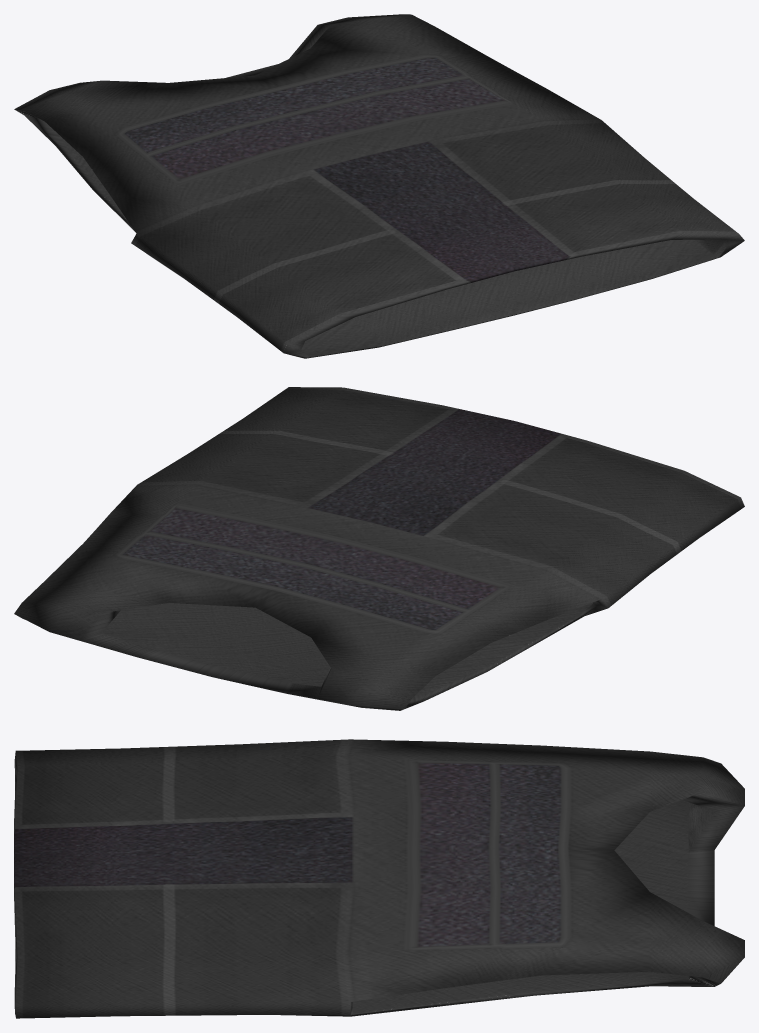
The model's file is MilitaryTacticalVest_WorldItem.fbx.
3 renders of one model, top to bottom at view 1: azimuth 30°, elevation 25°; view 2: azimuth 150°, elevation 25°; view 3: azimuth 270°, elevation 25°, orthographic. The views are drawn at different scales.
Parts seen in each view (by area): view 1: Circle_Circle.001; view 2: Circle_Circle.001; view 3: Circle_Circle.001.
Boxes of the visible parts, x1,y1,x2,y2 form: Circle_Circle.001: (14,14,744,358); Circle_Circle.001: (14,387,744,710); Circle_Circle.001: (14,739,744,1018).
Size of the model in its own units: 0.5288 by 0.0582 by 0.6072.
